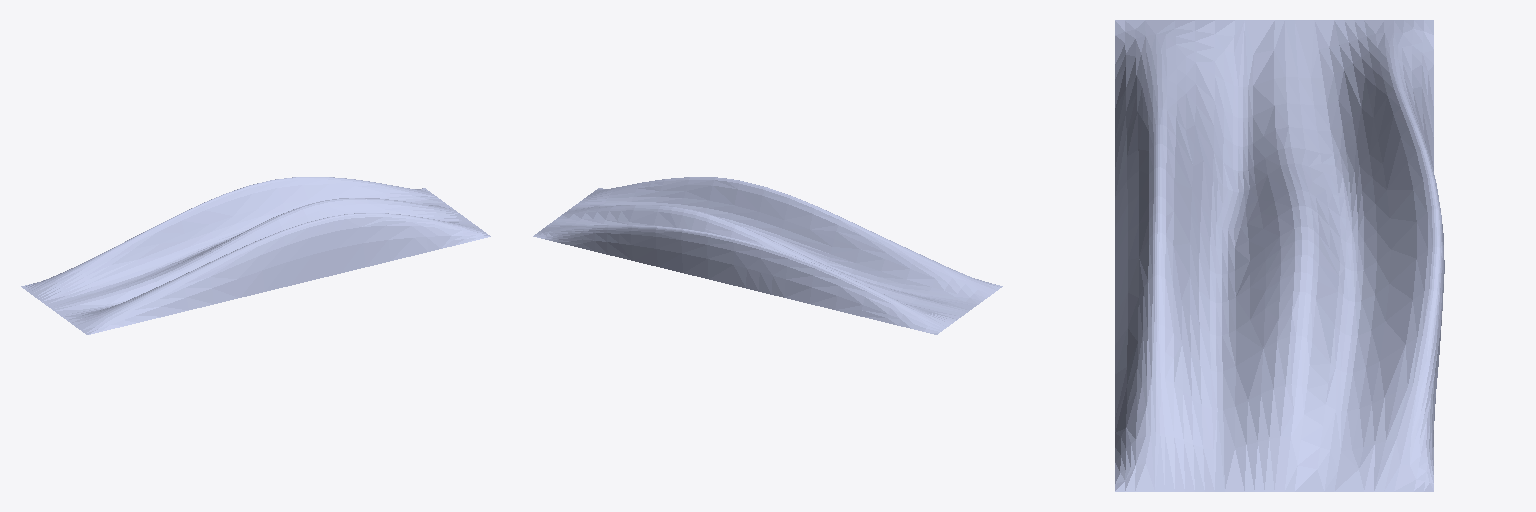
The robot description file, URDF, robot "sand_floor_v3":
<?xml version="1.0" encoding="utf-8"?>
<!-- This URDF was automatically created by SolidWorks to URDF Exporter! Originally created by [author] ([email redacted]) 
     Commit Version: 1.6.0-1-g15f4949  Build Version: 1.6.7594.29634
     For more information, please see http://wiki.ros.org/sw_urdf_exporter -->
<robot
  name="sand_floor_v3">
  <link
    name="base_link">
    <inertial>
      <origin
        xyz="0 0 0"
        rpy="0 0 0" />
      <mass
        value="0" />
      <inertia
        ixx="0"
        ixy="0"
        ixz="0"
        iyy="0"
        iyz="0"
        izz="0" />
    </inertial>
    <visual>
      <origin
        xyz="0 0 0"
        rpy="0 0 0" />
      <geometry>
        <mesh
          filename="package://sand_floor_v3/meshes/base_link.STL" />
      </geometry>
      <material
        name="">
        <color
          rgba="0.792156862745098 0.819607843137255 0.933333333333333 1" />
      </material>
    </visual>
    <collision>
      <origin
        xyz="0 0 0"
        rpy="0 0 0" />
      <geometry>
        <mesh
          filename="package://sand_floor_v3/meshes/base_link.STL" />
      </geometry>
    </collision>
  </link>


<gazebo reference="base_link">
    <material>Gazebo/Red</material>
</gazebo>
</robot>

--- What the picture shows (computed from the rendered views, not written in the file) ---
Views: 3 orthographic renders of the robot side by side, from view 1: azimuth 30°, elevation 25°; view 2: azimuth 150°, elevation 25°; view 3: azimuth 270°, elevation 25°.
Model sand_floor_v3 with 1 links and 0 joints (none), rooted at base_link, posed every joint at zero.
Links seen in each view (by area): view 1: base_link; view 2: base_link; view 3: base_link.
Boxes of the visible links, x1=… form: base_link: x1=21, y1=177, x2=490, y2=334; base_link: x1=533, y1=177, x2=1002, y2=334; base_link: x1=1115, y1=20, x2=1444, y2=491.
Size in the robot's own frame: 0.3 by 0.0887 by 0.0382 metres.
1 mesh visuals loaded from 1 distinct referenced files (1 binary STL).